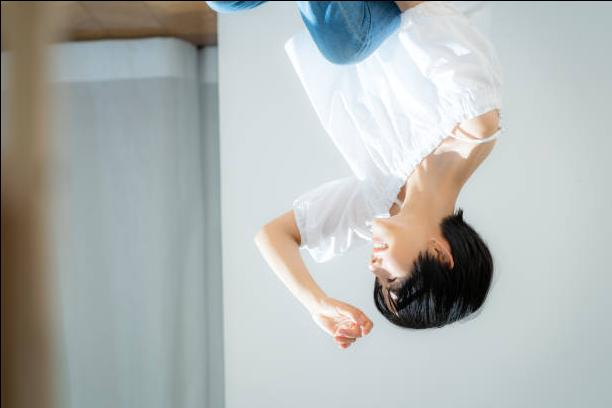Non_Gorille: (246, 0, 524, 363)
